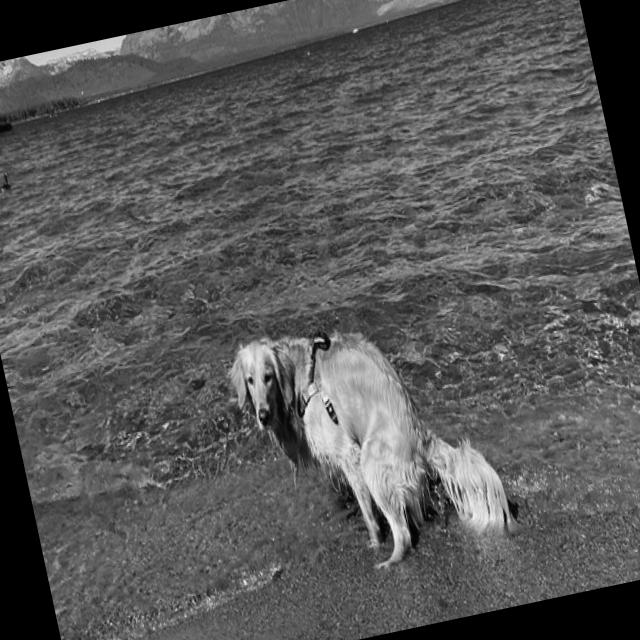squatting: (217, 282, 524, 600)
